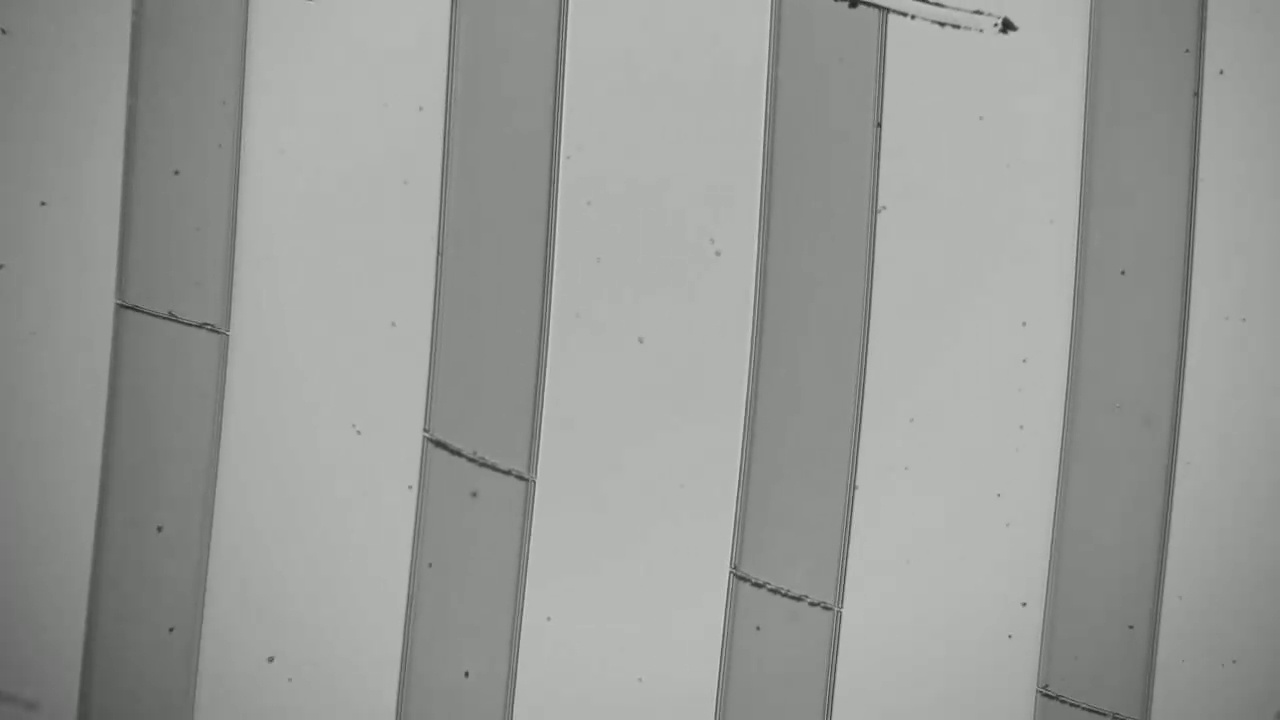Short_circuit: (124, 286, 218, 354), (742, 563, 829, 620), (436, 438, 517, 488), (1049, 682, 1124, 719)
